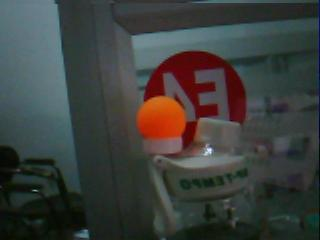oball: (137, 96, 185, 138)
